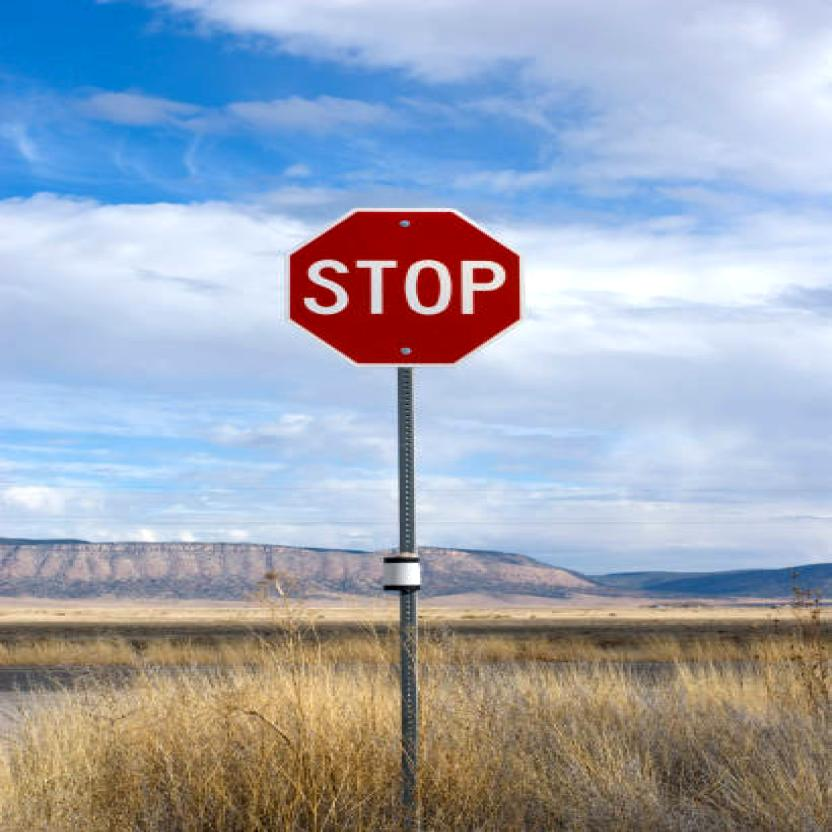Pole: (393, 366, 422, 806)
Sign: (284, 210, 524, 366)
